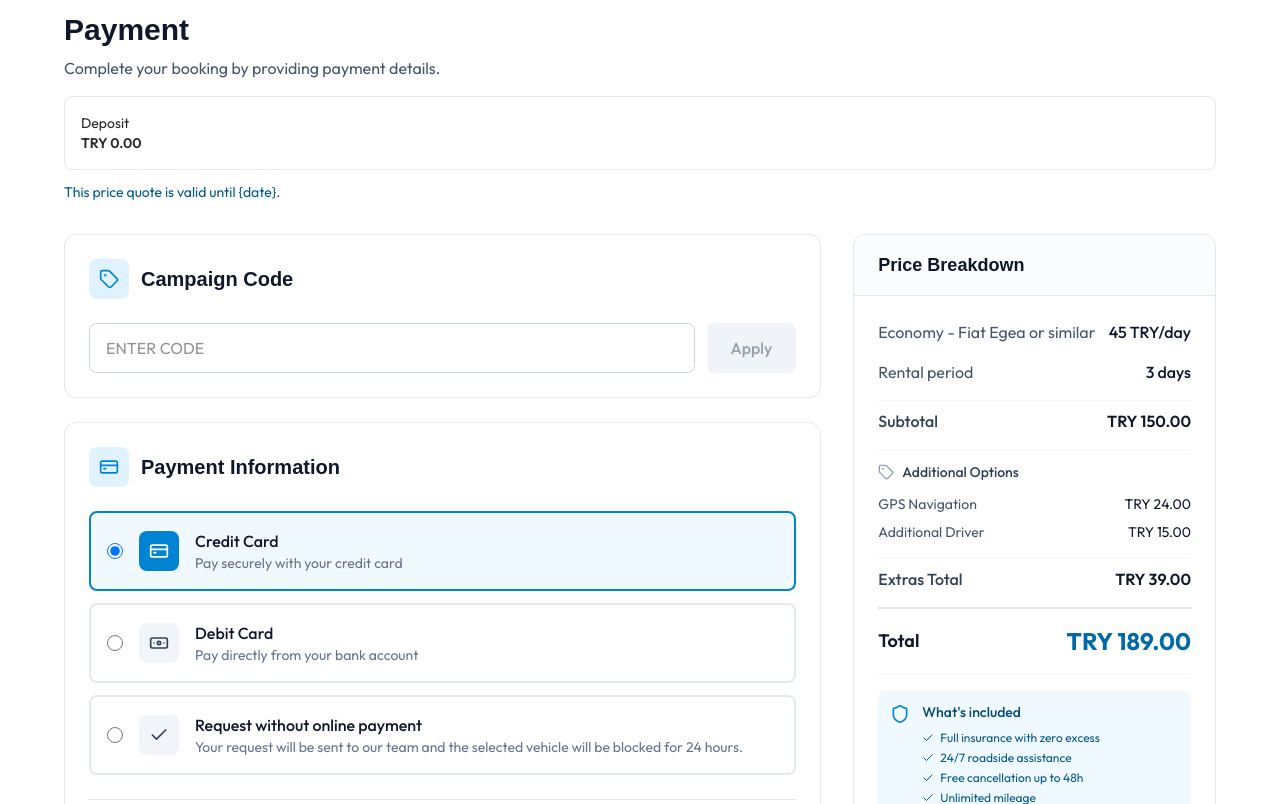
Test case: BookingStep4Page › validates a campaign code through the API before applying it
In the field with placeholder "Enter code": (392, 348) [89, 323, 694, 373], type "summer15"
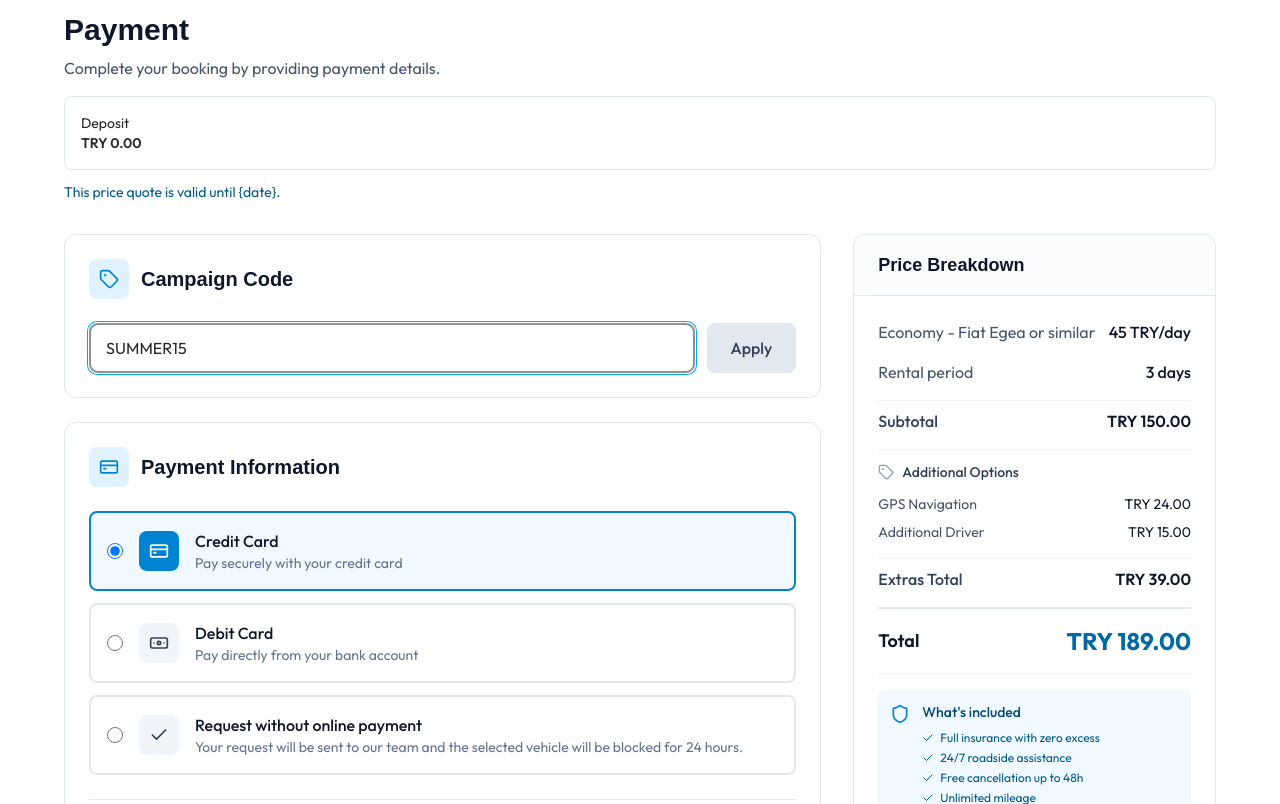
Click the button "Apply": (751, 348) [706, 323, 796, 373]
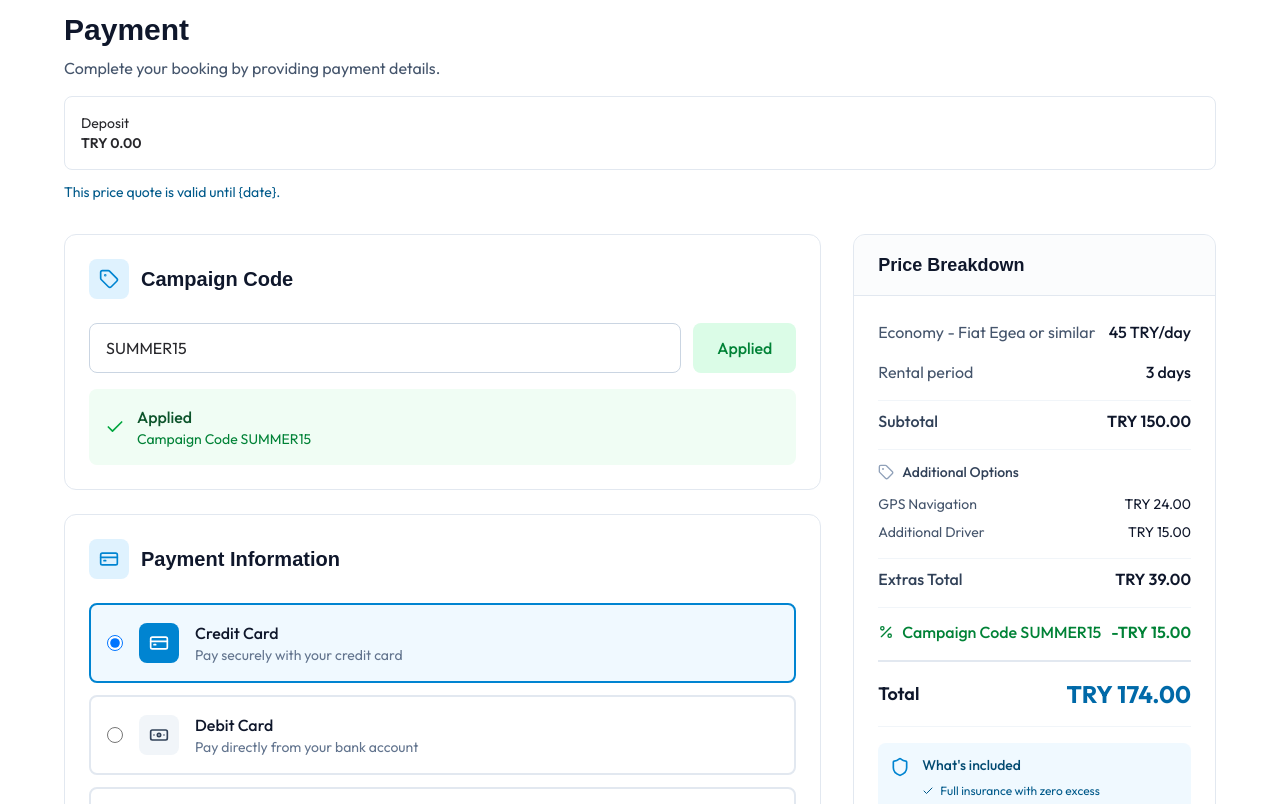
Result: the button "Applied" is disabled at [693, 323, 796, 373]
